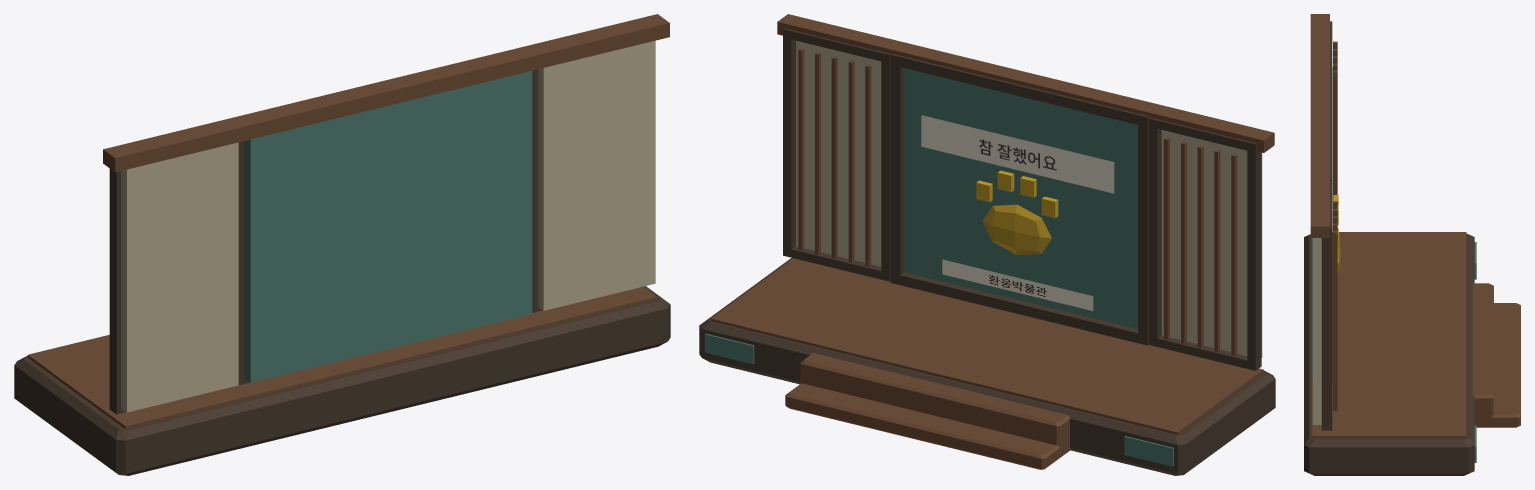
File: A01_Ceremony_Dais.fbx
3 renders of one model, left to right at view 1: azimuth 30°, elevation 25°; view 2: azimuth 150°, elevation 25°; view 3: azimuth 270°, elevation 25°, orthographic. The views are drawn at different scales.
Parts seen in each view (by area): view 1: Backdrop, Platform; view 2: Backdrop, Platform, Title, Emblem; view 3: Platform, Backdrop, Emblem.
Boxes of the visible parts, box(x1,y1,x2,y2) form: Backdrop: box(103, 14, 669, 414); Platform: box(14, 286, 670, 475); Backdrop: box(777, 14, 1274, 370); Platform: box(699, 258, 1275, 475); Title: box(921, 115, 1114, 193); Emblem: box(976, 170, 1058, 255); Platform: box(1304, 232, 1520, 475); Backdrop: box(1310, 14, 1337, 430); Emblem: box(1332, 195, 1340, 274).
Bounding box in the file's own units: 5.8 × 3.2 × 2.5.
Materials: 6 (1 with a texture image).
